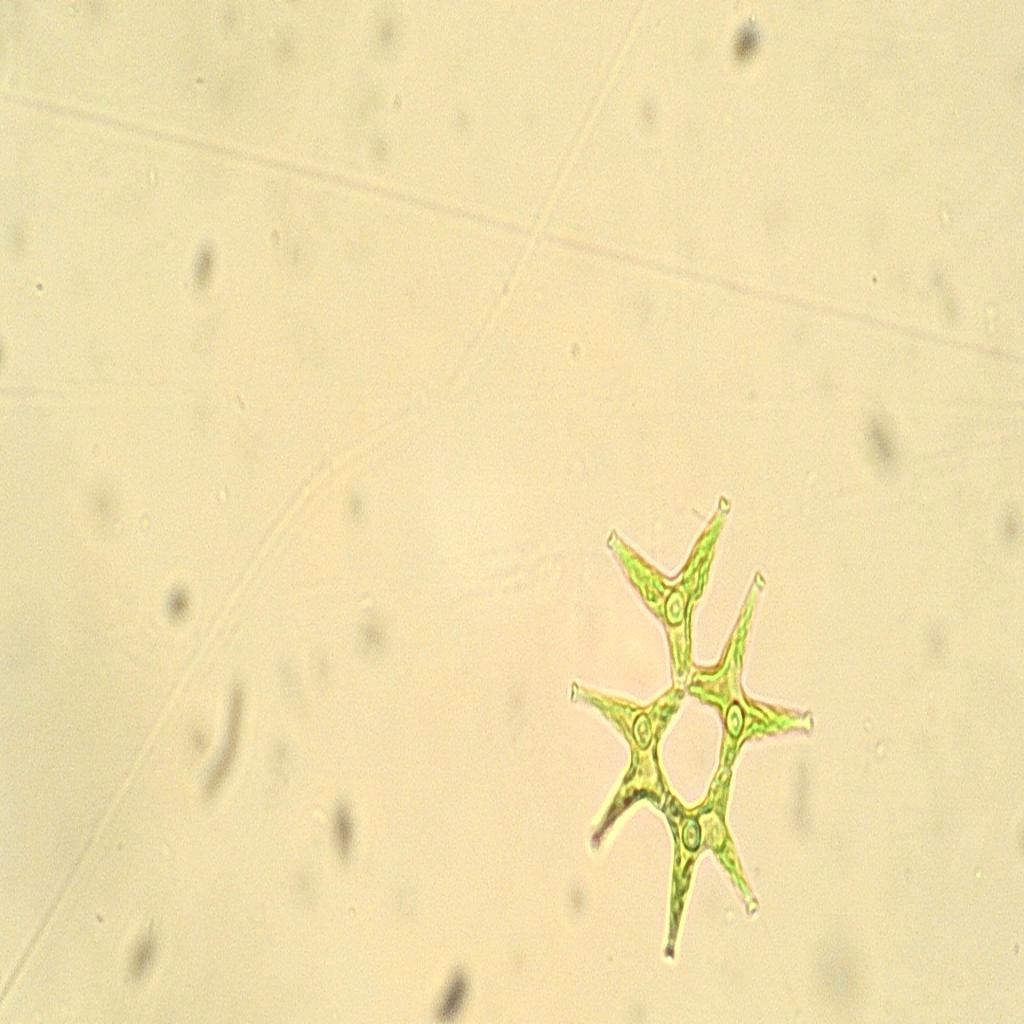Pediastrum_CT: (563, 452, 824, 975)
